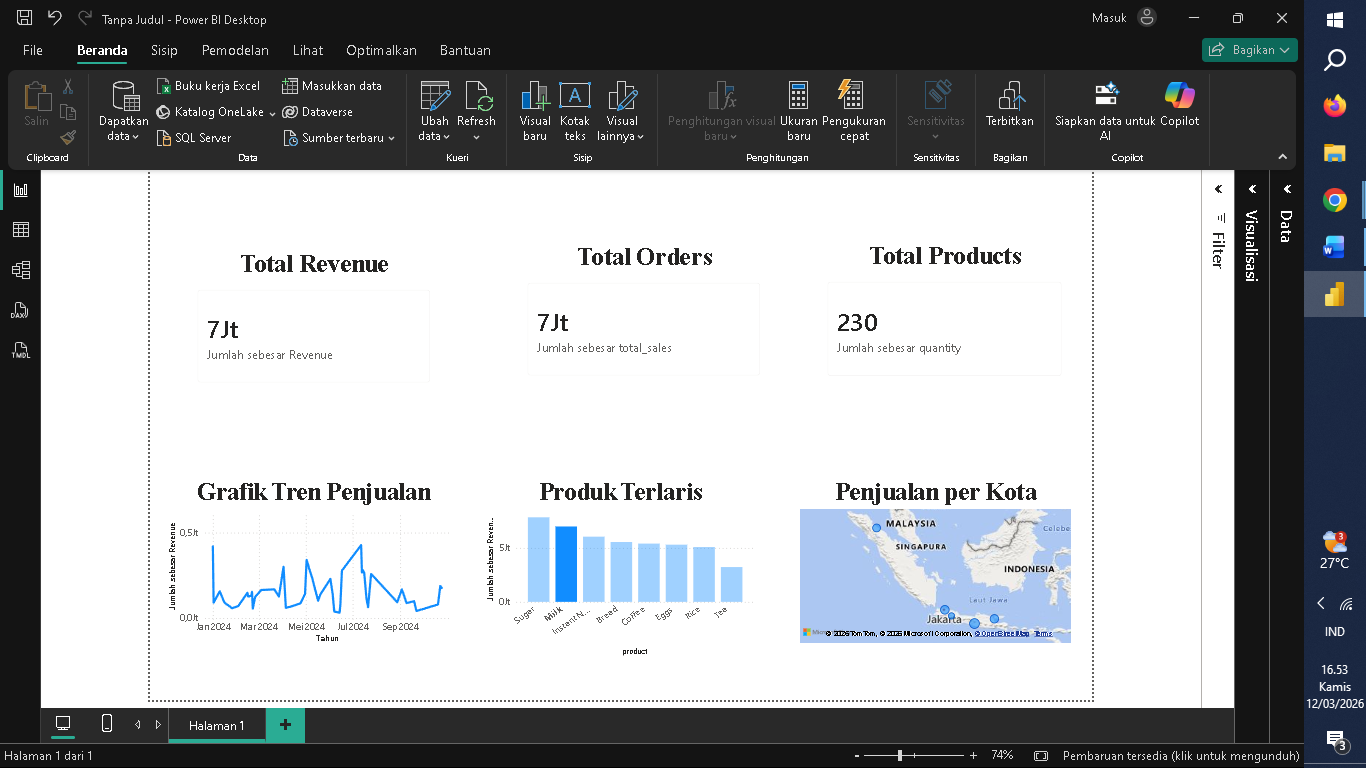

The dashboard page shown, as its layout file describes it:
{"tool":"powerbi","page":{"name":"Halaman 1","canvas":[1280,720],"ordinal":0},"visuals":[{"type":"cardVisual","title":"Total Revenue","fields":{"Data":["Sum(sales_dataset.Revenue)"]},"box":[47.2,109.1,351,197.6],"z":0},{"type":"cardVisual","title":"Total Orders","fields":{"Data":["Sum(sales_dataset.total_sales)"]},"box":[495.5,98.8,351,197.6],"z":1000},{"type":"cardVisual","title":"Total Products","fields":{"Data":["Sum(sales_dataset.quantity)"]},"box":[904,97.3,352.4,199.1],"z":2000},{"type":"lineChart","title":"Grafik Tren Penjualan","fields":{"Y":["Sum(sales_dataset.Revenue)"],"Category":["sales_dataset.date.Variasi.Hierarki Tanggal.Tahun","sales_dataset.date.Variasi.Hierarki Tanggal.Kuartal","sales_dataset.date.Variasi.Hierarki Tanggal.Bulan","sales_dataset.date.Variasi.Hierarki Tanggal.Hari"]},"box":[20.6,418.8,404.1,228.6],"z":2001},{"type":"clusteredColumnChart","title":"Produk Terlaris","fields":{"Category":["sales_dataset.product"],"Y":["Sum(sales_dataset.Revenue)"]},"box":[452.7,418.8,373.1,246.3],"z":2002},{"type":"map","title":"Penjualan per Kota","fields":{"Category":["sales_dataset.city"],"Size":["Sum(sales_dataset.Revenue)"]},"box":[877.4,418.8,379,228.6],"z":2003}]}

Visuals, with their boxes on the page's 1280x720 design canvas (x1, y1, x2, y2). These are canvas units, not pixel positions in the 1366x768 screenshot, which may show the page scaled, cropped or inside an application window:
"Total Revenue" cardVisual: (x1=47, y1=109, x2=398, y2=307)
"Total Orders" cardVisual: (x1=496, y1=99, x2=846, y2=296)
"Total Products" cardVisual: (x1=904, y1=97, x2=1256, y2=296)
"Grafik Tren Penjualan" lineChart: (x1=21, y1=419, x2=425, y2=647)
"Produk Terlaris" clusteredColumnChart: (x1=453, y1=419, x2=826, y2=665)
"Penjualan per Kota" map: (x1=877, y1=419, x2=1256, y2=647)
